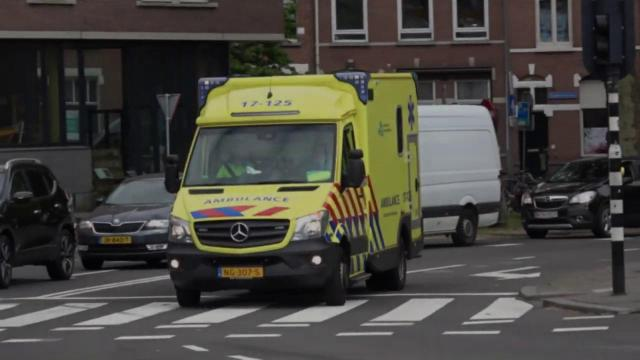police: (164, 69, 423, 294)
